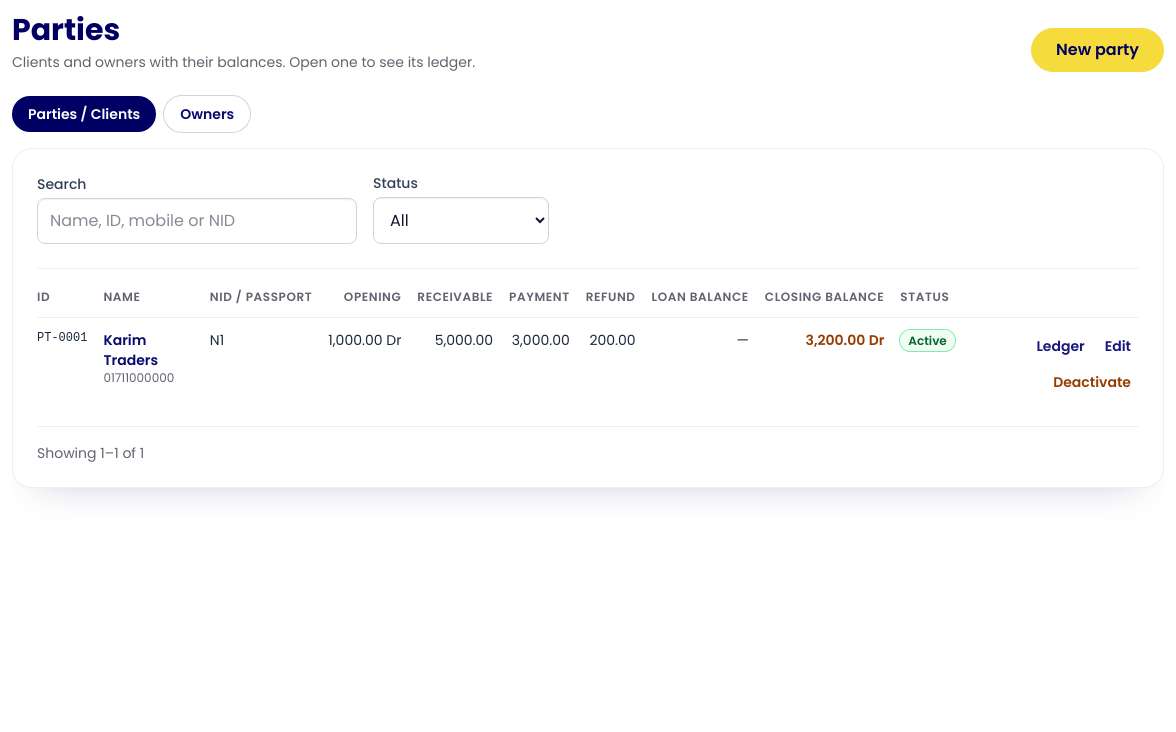
PartiesView › switches to the owners tab
Click the tab "Owners" at (207, 114), box [164,96,250,132]
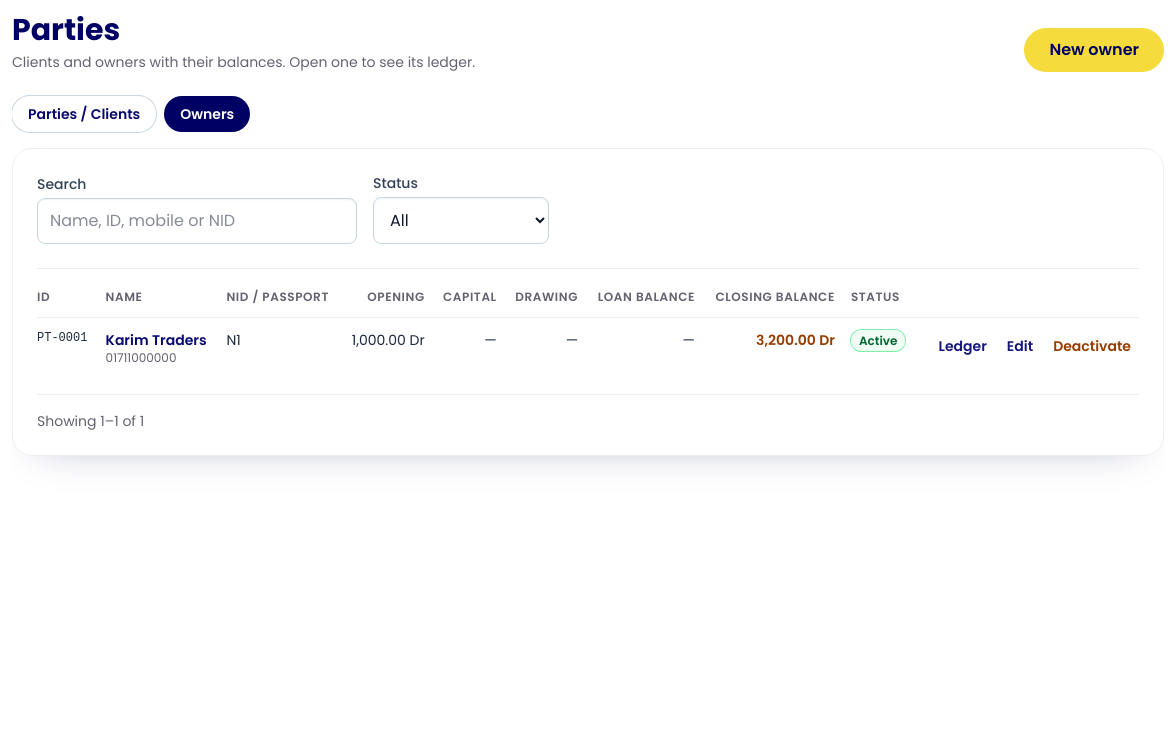
Expected: the button "New owner" is shown, [1024,28,1164,72]
